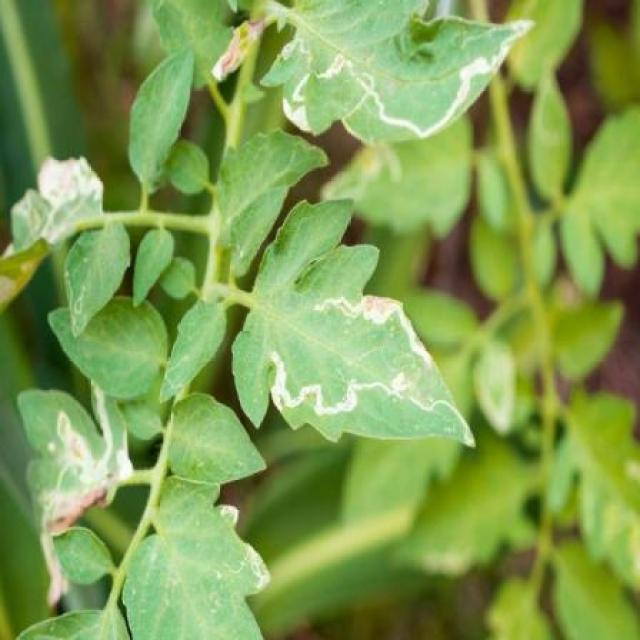Healthy: (50, 296, 166, 395), (128, 48, 195, 198), (167, 394, 267, 489)
Leaf Miner: (234, 196, 476, 447), (257, 0, 534, 151)
